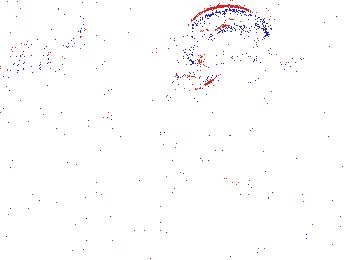moon jellyfish: (183, 6, 268, 66), (257, 4, 340, 60), (1, 1, 43, 79)
